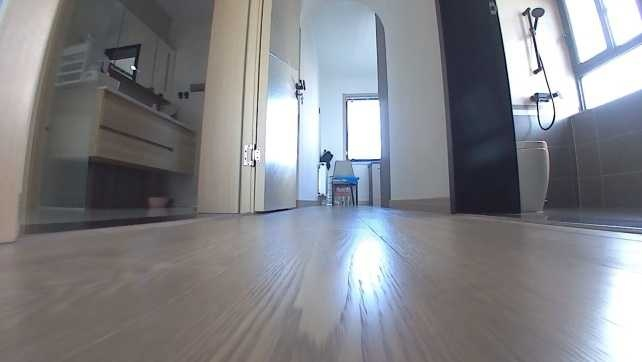door_anno: (246, 0, 309, 212)
door_sill: (456, 208, 640, 240), (26, 210, 230, 235)
toilet: (513, 138, 551, 214)
